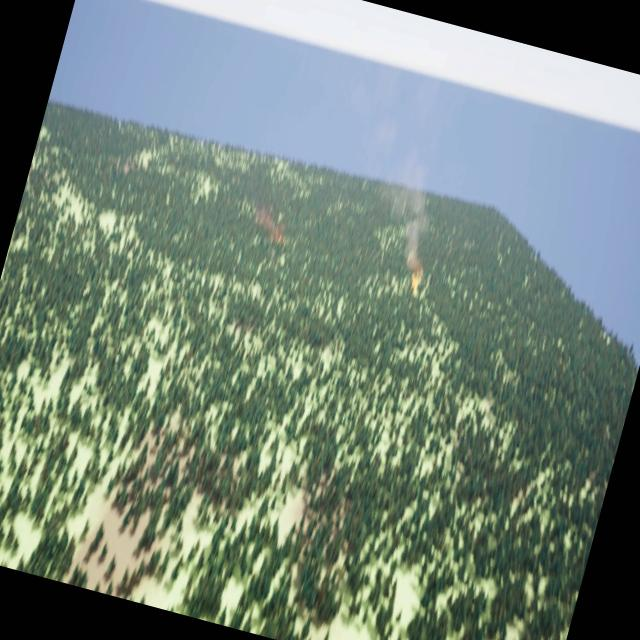fire: (406, 267, 426, 299)
smoke: (362, 145, 448, 271), (248, 203, 295, 248)
